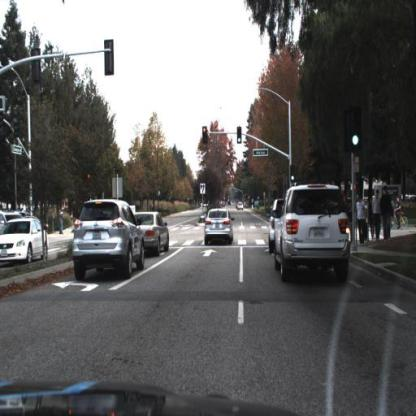car: (274, 179, 357, 284), (69, 197, 150, 286), (2, 218, 51, 267), (134, 211, 171, 258), (205, 207, 236, 245), (269, 199, 287, 256), (261, 200, 282, 221)
pedestrian: (382, 187, 394, 242), (358, 193, 369, 246), (373, 189, 383, 240), (357, 194, 367, 244), (368, 196, 374, 243)
trafficLight: (351, 107, 361, 150)
trafficLight-Green: (237, 124, 243, 145), (290, 166, 296, 185)
trafficLight-RedLeft: (202, 126, 209, 147), (86, 170, 93, 190), (202, 127, 209, 147), (87, 170, 92, 184)
